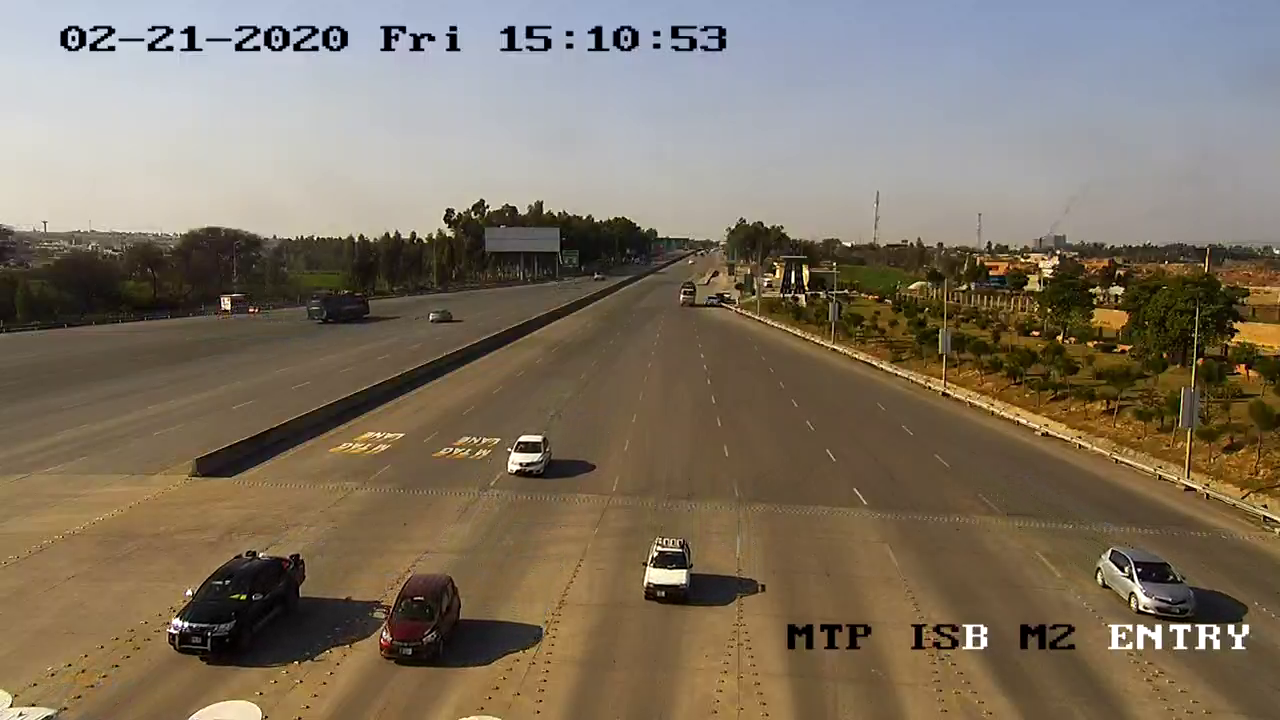f1: (164, 541, 314, 668), (375, 566, 472, 672), (1090, 538, 1205, 625), (639, 530, 703, 612), (498, 429, 563, 487)
